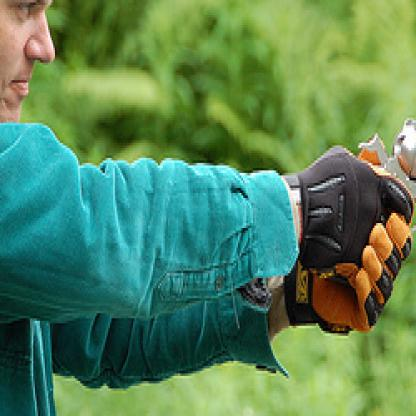gun: (350, 106, 414, 324)
